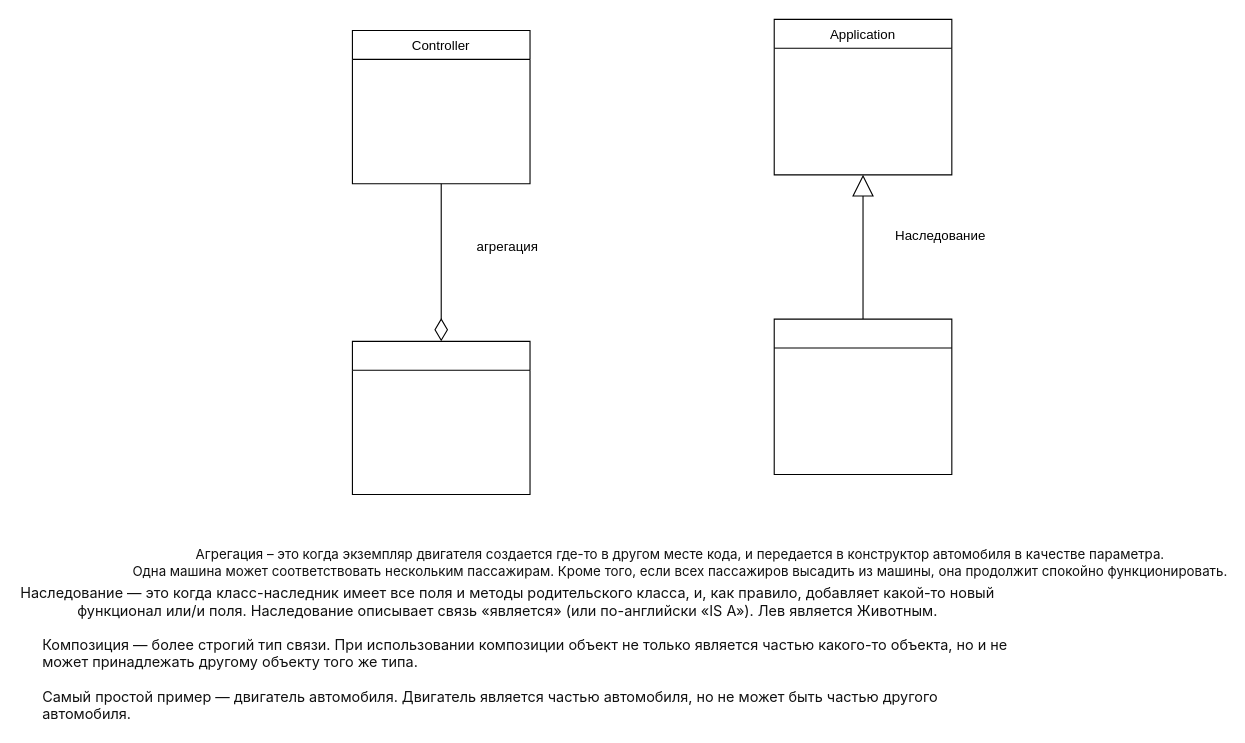
Some shapes in this 1245 by 743 pixel diagram are drawn without their labels. The box of each missing label's shape, as (x1, y1, x2, y2) in pixels:
Energy: (351, 340, 530, 495)
Main: (773, 318, 952, 475)
